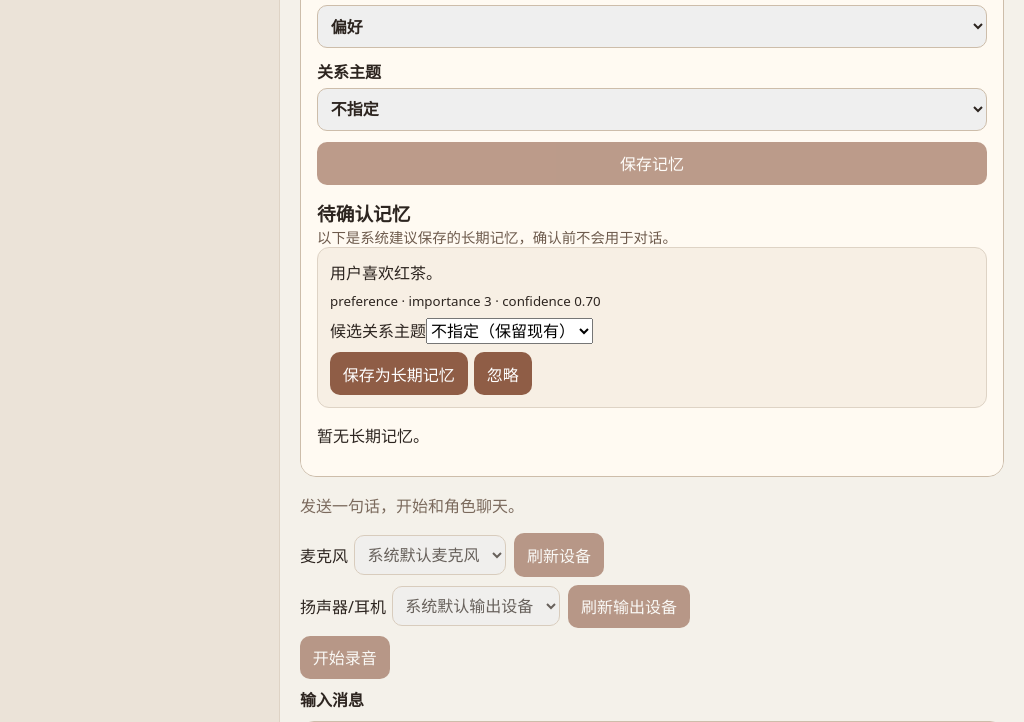
Test case: App › confirms a pending memory candidate and moves it into active memories
(page scrolled)
Expected: the text "用户喜欢红茶。" is shown, [330, 262, 442, 284]
Click the button "保存为长期记忆". click: (399, 374)
box: [330, 352, 468, 395]
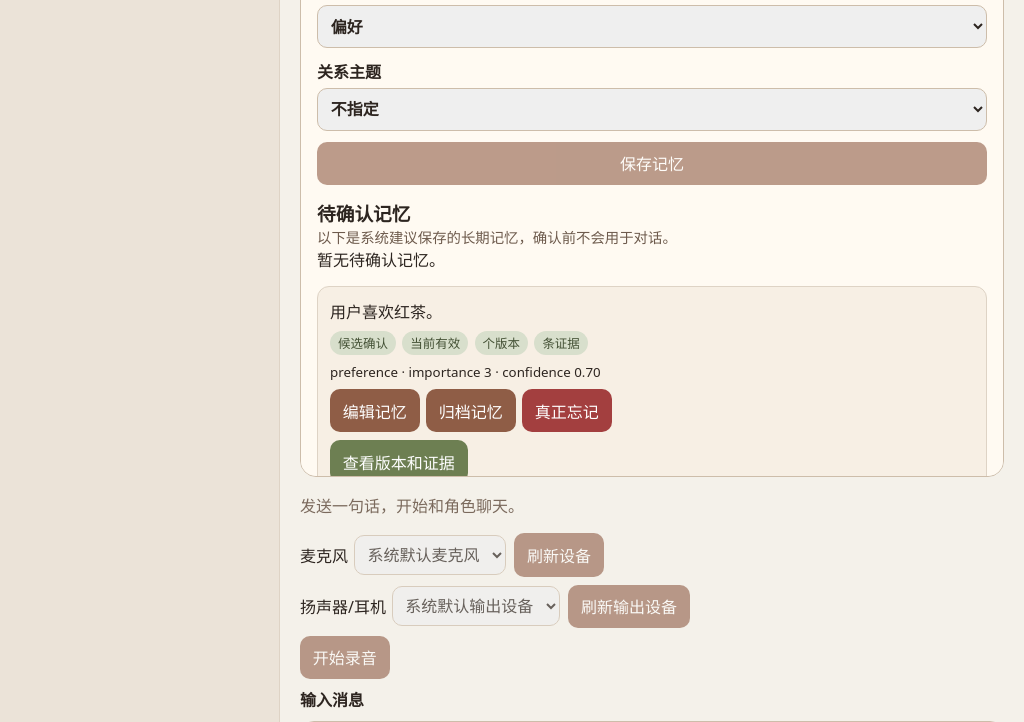
Expected: the text "暂无长期记忆。" is gone
